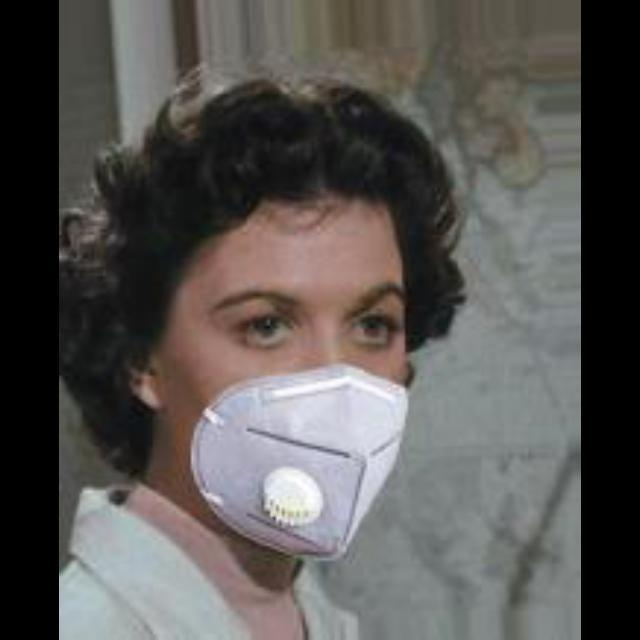suspicion: (61, 86, 477, 548)
